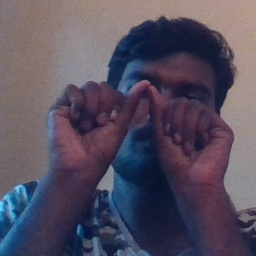A: (59, 75, 221, 176)
